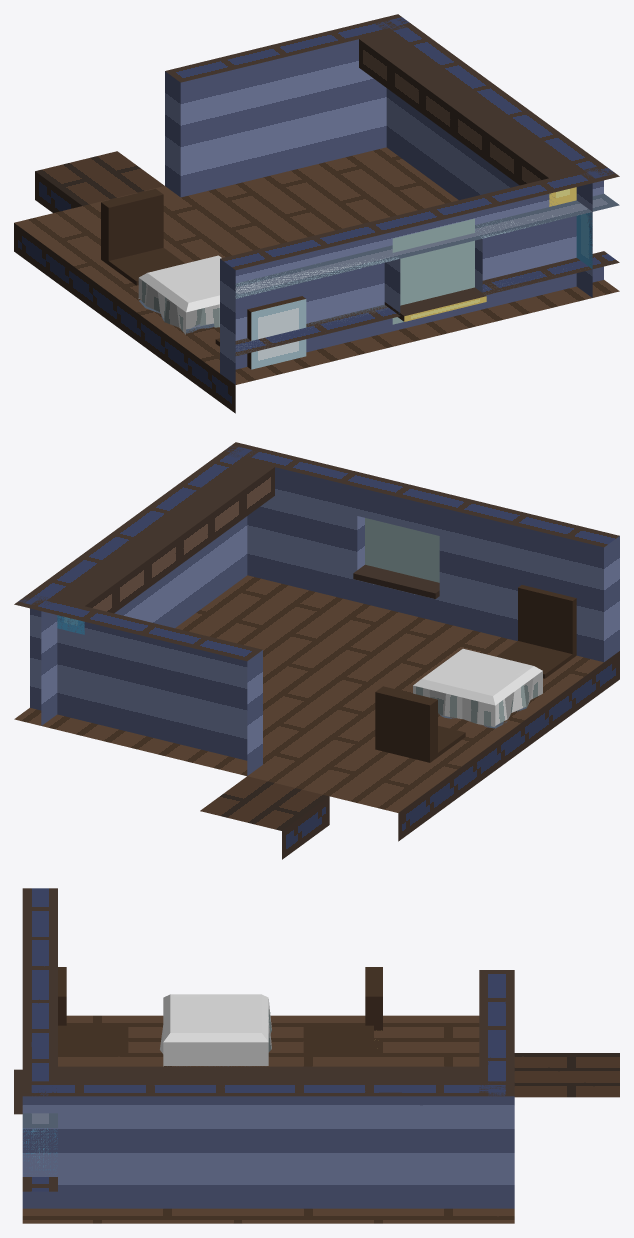
Rendered from kitchen.gltf.
3 views of the same model, one above another, from view 1: azimuth 30°, elevation 25°; view 2: azimuth 150°, elevation 25°; view 3: azimuth 270°, elevation 25° (orthographic). The views are drawn at different scales.
Visible parts, largest first — view 1: wall-col (×6), cuboid-col (×6), cuboid (×2), plane; view 2: wall-col (×6), cuboid-col (×6), cuboid (×2), plane; view 3: wall-col (×4), cuboid-col (×5), cuboid (×3).
Part boxes in pixels (box(x1,y1,x2,y2)): wall-col (×6): box(165, 14, 619, 384); cuboid-col (×6): box(14, 32, 619, 413); cuboid (×2): box(101, 188, 184, 285); plane: box(392, 218, 474, 324); wall-col (×6): box(14, 442, 619, 775); cuboid-col (×6): box(14, 460, 619, 859); cuboid (×2): box(375, 641, 576, 762); plane: box(365, 518, 439, 582); wall-col (×4): box(22, 888, 514, 1208); cuboid-col (×5): box(22, 967, 619, 1223); cuboid (×3): box(58, 967, 382, 1055).
Size of what is drawn, in the model's own units: 0.875 by 0.3125 by 1.08.
Materials: 1 (1 with a texture image).
